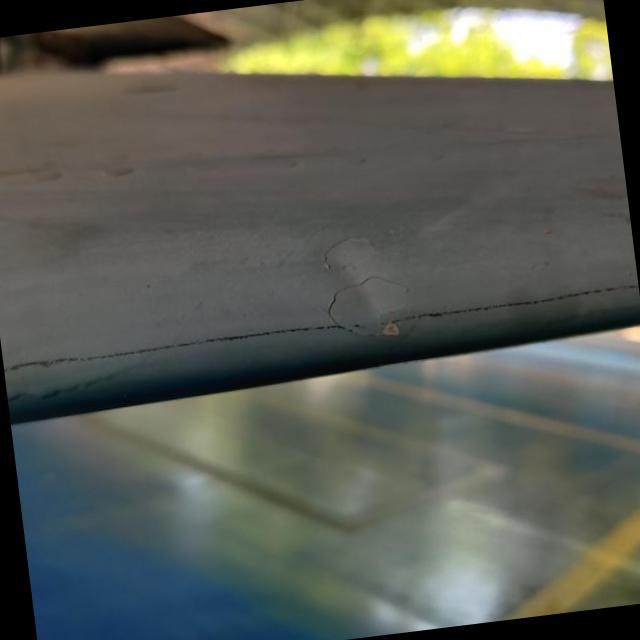Dent: (324, 235, 414, 333)
